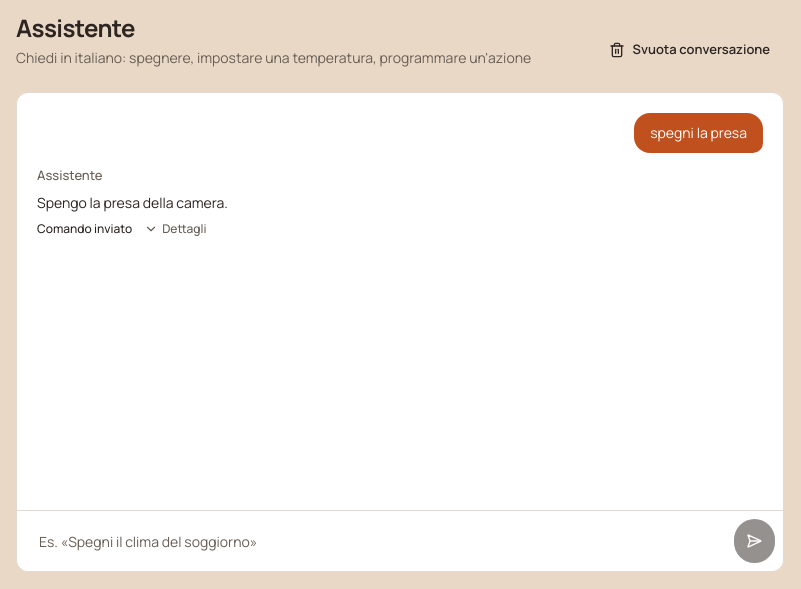
Test: Assistente: la risposta (design, lotto 2) › risposta normale: nessun badge di stato, «Comando inviato» a parole, il codice solo in «Dettagli»
expect the text with test id "ask-action-ask-0001-0" reads "Comando inviato": met, box [37,220,132,237]
expect the element with test id "ask-message-ask-0001" does not show "cmd-7f3a9c1e": met, box [37,113,763,237]
Click the button with test id "ask-details-toggle-ask-0001".
click(175, 229)  # box [144,221,206,237]
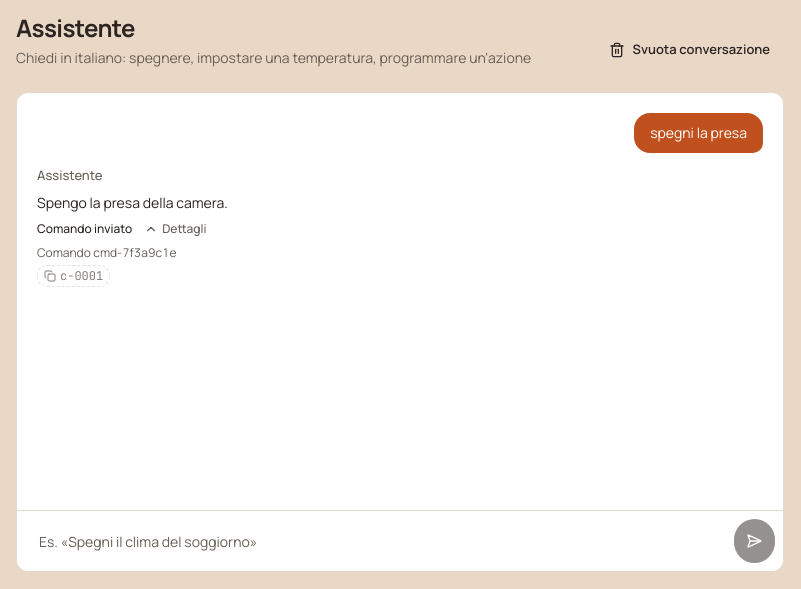
expect the element with test id "ask-details-ask-0001" shows "cmd-7f3a9c1e": met, box [93,244,176,261]
